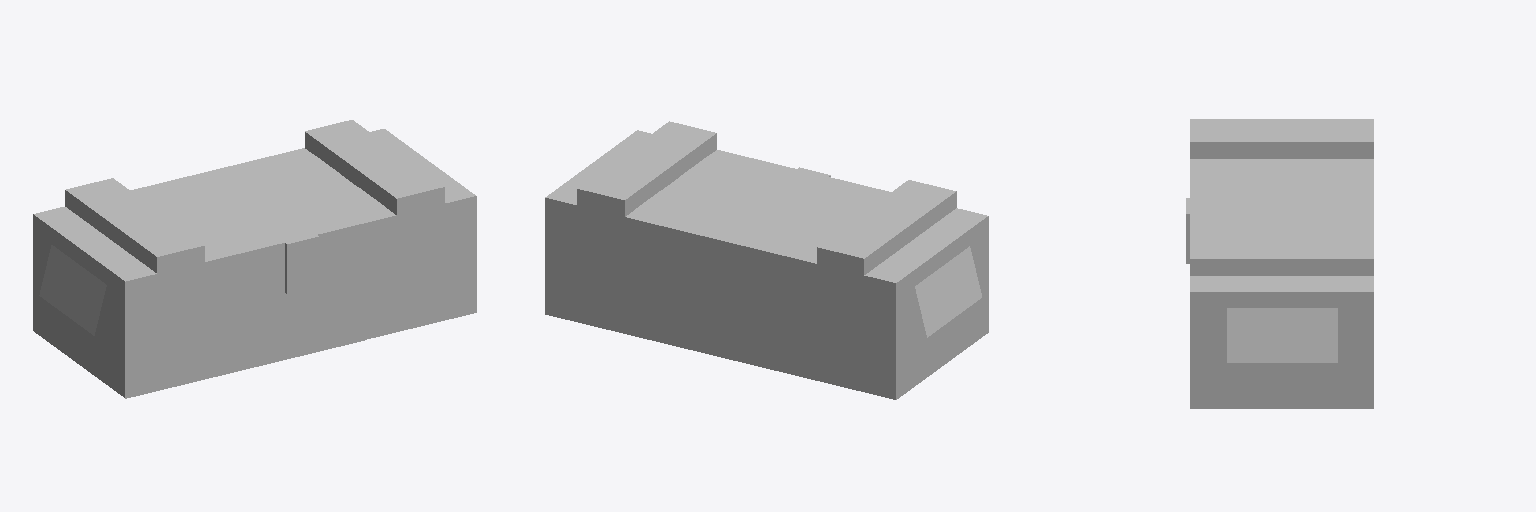
File: ammocrate_bomb_250.obj
3 renders of one model, left to right at view 1: azimuth 30°, elevation 25°; view 2: azimuth 150°, elevation 25°; view 3: azimuth 270°, elevation 25°, orthographic.
Visible parts, largest first — view 1: crate, lid; view 2: crate, lid; view 3: lid, crate.
Part boxes in pixels (x1,y1,x2,y2): crate: (33, 213, 476, 398); lid: (33, 120, 476, 297); crate: (545, 214, 988, 399); lid: (545, 121, 988, 299); lid: (1186, 119, 1373, 307); crate: (1190, 308, 1373, 408).
Bounding box in the file's own units: 1.47 × 0.5 × 0.6406.